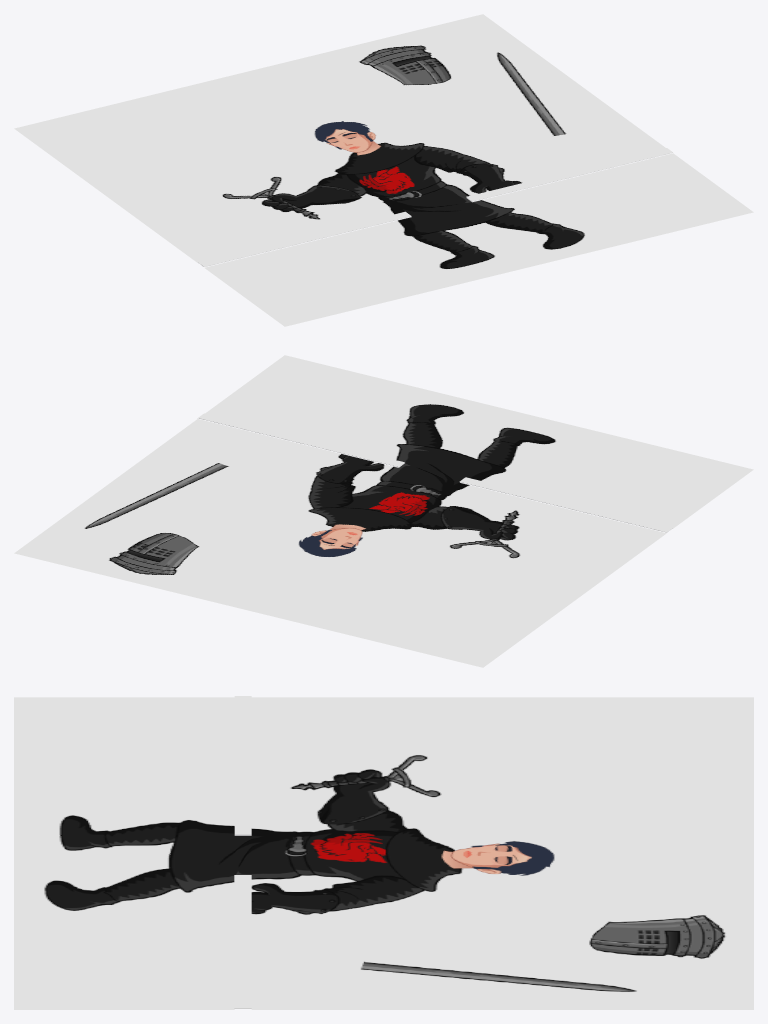
Rendered from Level 62 roll skateboard wheels.fbx.
3 views of the same model, one above another, from view 1: azimuth 30°, elevation 25°; view 2: azimuth 150°, elevation 25°; view 3: azimuth 270°, elevation 25° (orthographic). The views are drawn at different scales.
Visible parts, largest first — view 1: Mesh, Blend, Blend1; view 2: Mesh, Blend, Blend1; view 3: Mesh, Blend, Blend1.
Boxes of the visible parts, x1,y1,x2,y2 form: Mesh: (14,14,753,326); Blend: (198,211,411,266); Blend1: (466,148,672,201); Mesh: (14,355,753,667); Blend: (459,477,672,532); Blend1: (198,413,404,466); Mesh: (14,697,753,1009); Blend: (234,696,251,834); Blend1: (234,875,251,1008).
Size of the model in its own units: 2400 by 4.15 by 2400.
